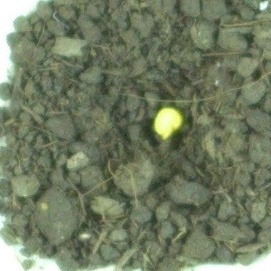pepper seed: (59, 35, 245, 176)
